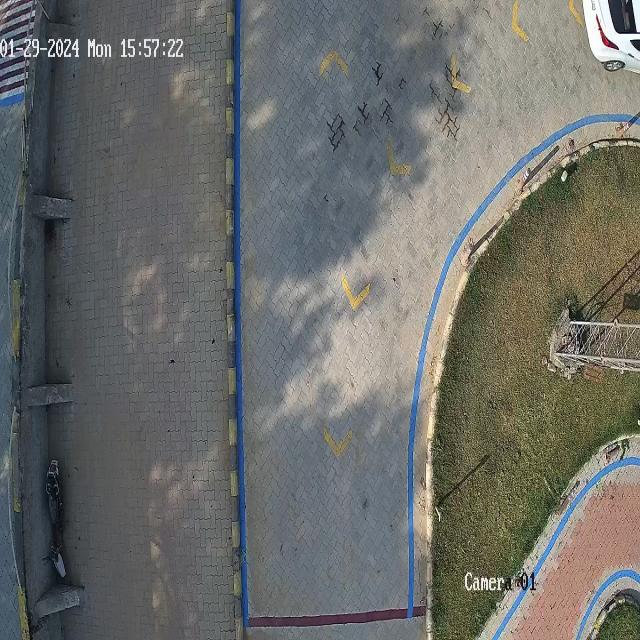car: (582, 0, 640, 72)
